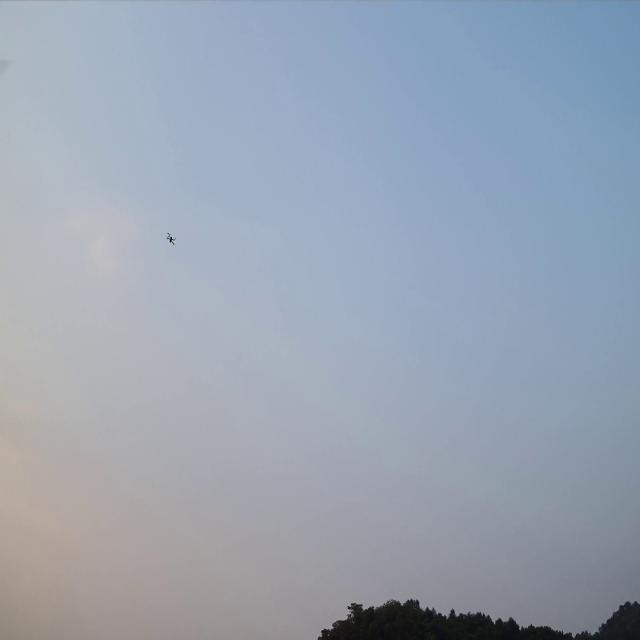UAV: (166, 230, 176, 245)
